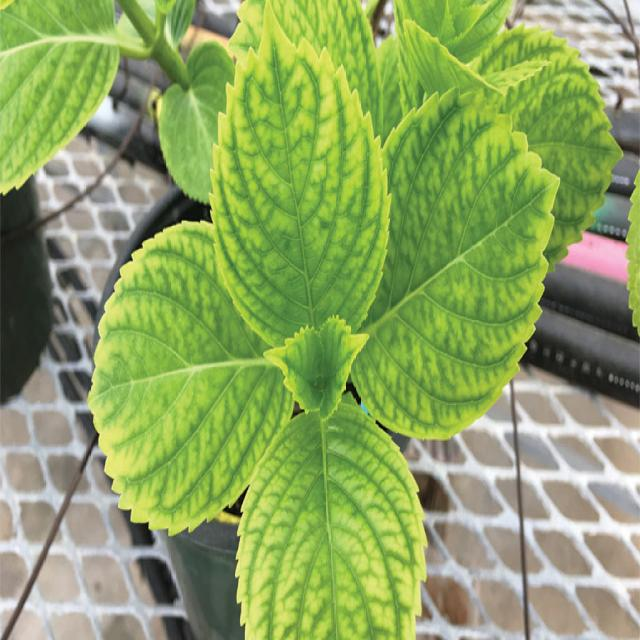Chlorosis: (68, 3, 575, 640)
